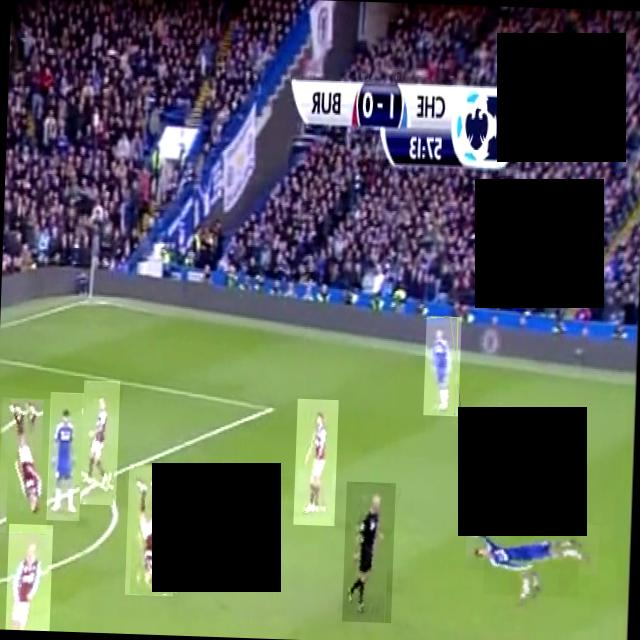referee: (342, 481, 396, 623)
soccer-player: (482, 498, 580, 597), (124, 463, 177, 596), (0, 397, 51, 534), (293, 398, 338, 526), (5, 524, 53, 630), (80, 380, 120, 506), (46, 392, 83, 520), (423, 316, 461, 416)
